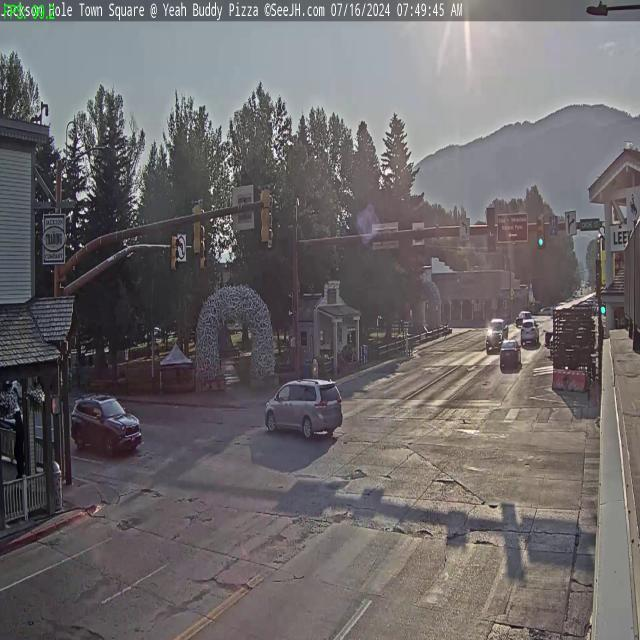pickup: (486, 316, 508, 350)
sedan: (499, 338, 522, 368)
suv: (264, 374, 344, 442), (70, 391, 143, 458), (520, 315, 539, 348)
traffic light: (190, 199, 203, 257), (260, 186, 272, 244), (486, 207, 497, 252), (536, 215, 546, 248), (170, 236, 178, 272)
